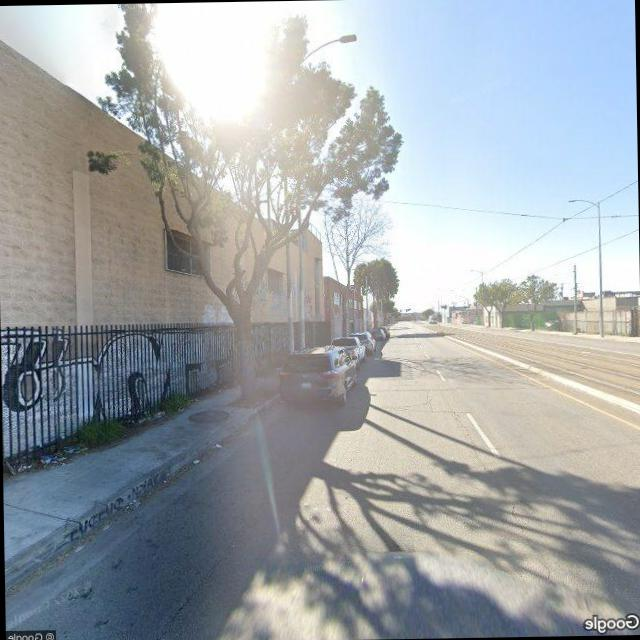pothole: (450, 406, 488, 466)
